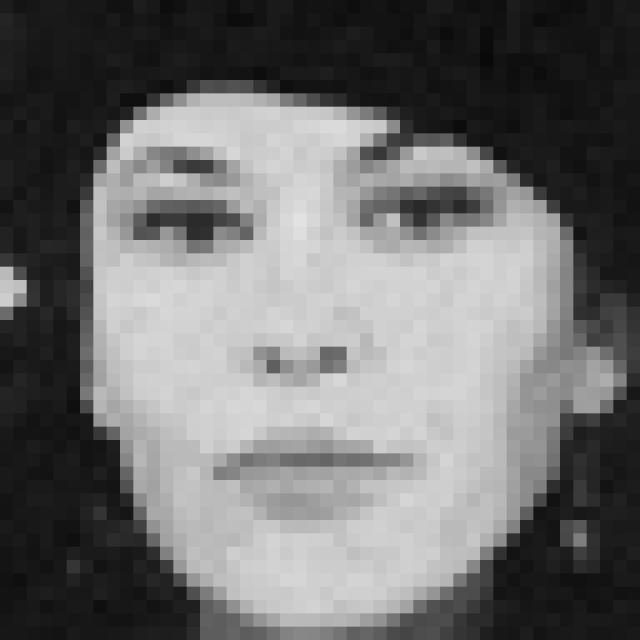neutral: (114, 120, 514, 531)
